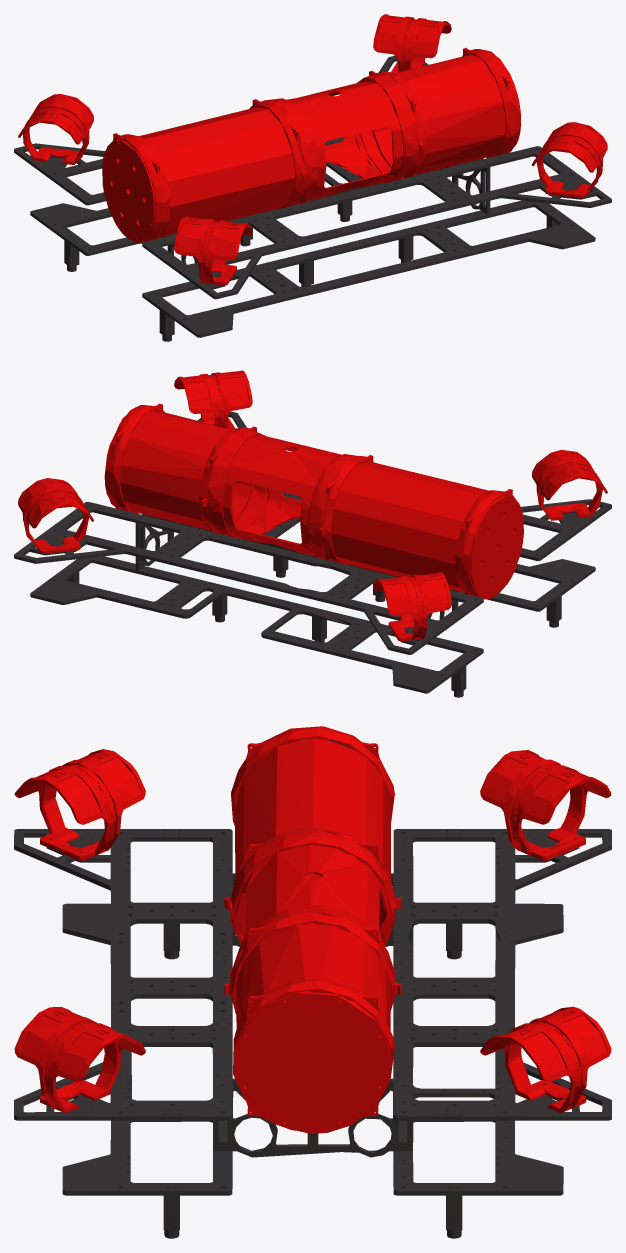
File: puddles_visual.dae
3 renders of one model, top to bottom at view 1: azimuth 30°, elevation 25°; view 2: azimuth 150°, elevation 25°; view 3: azimuth 270°, elevation 25°, orthographic. The views are drawn at different scales.
Parts seen in each view (by area): view 1: Maelstrom-v2; view 2: Maelstrom-v2; view 3: Maelstrom-v2.
Boxes of the visible parts, box(x1,y1,x2,y2) form: Maelstrom-v2: box(14, 14, 611, 341); Maelstrom-v2: box(14, 370, 611, 697); Maelstrom-v2: box(14, 726, 611, 1238).
Bounding box in the file's own units: 0.9674 × 0.7813 × 0.3459.
